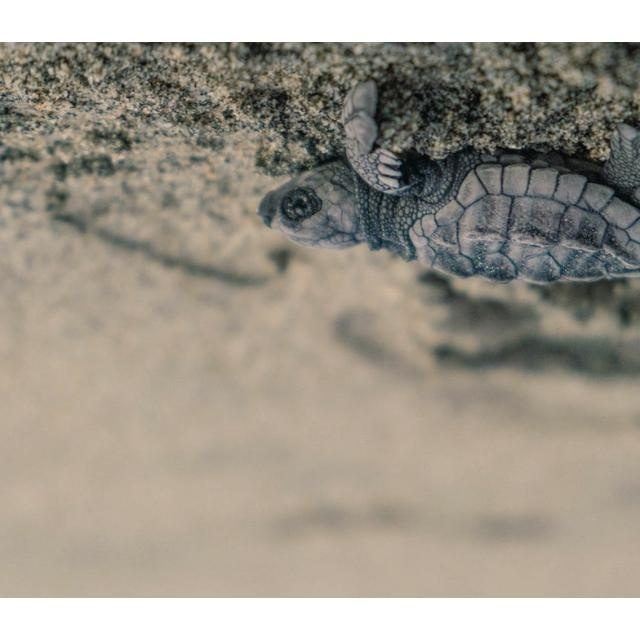turtle: (257, 76, 640, 284)
